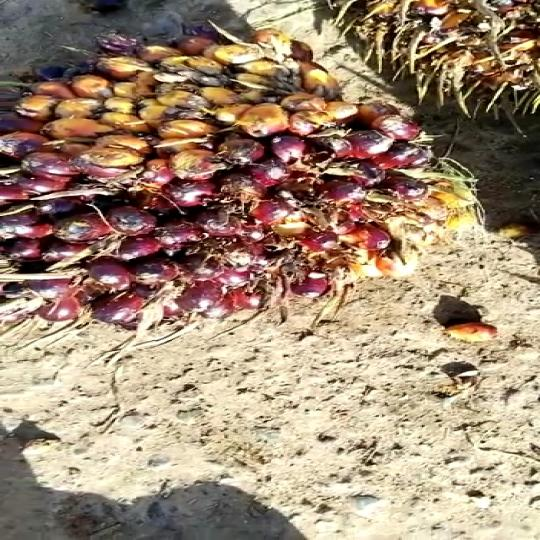kurang masak: (0, 12, 479, 320)
